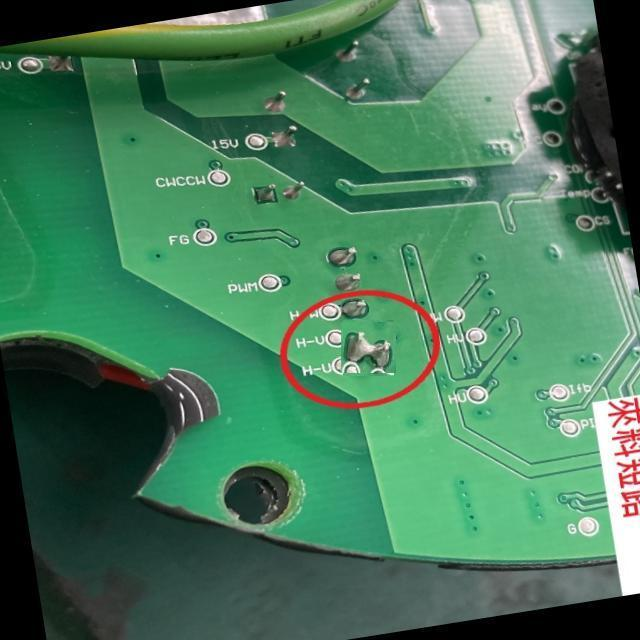damged: (342, 321, 395, 375)
